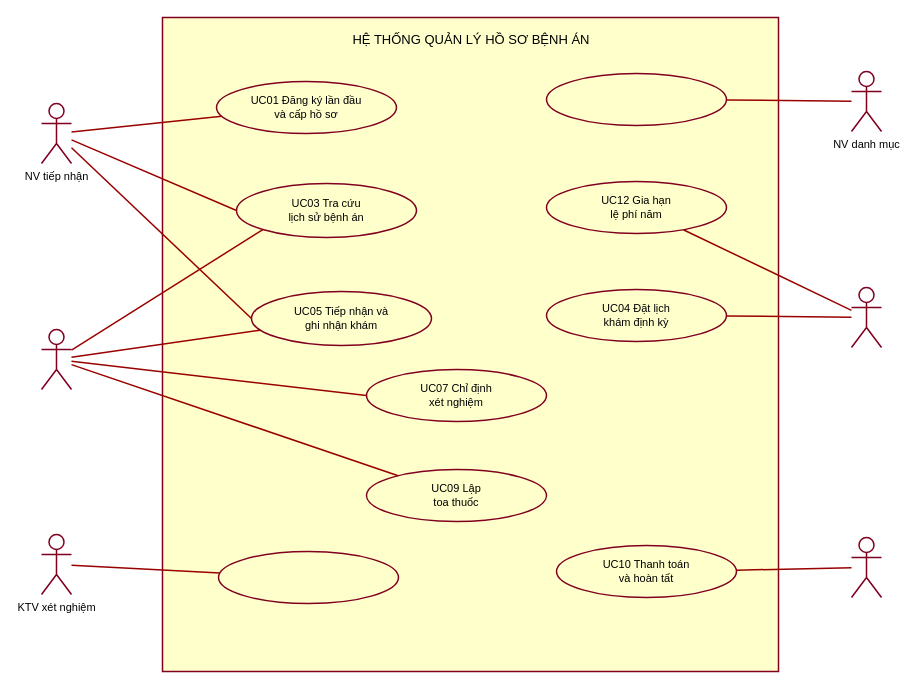
The diagram is 917 pixels wide and 690 high, and some of its shapes have lost their labels. Each missing label, with the centre of its shape:
"Bác sĩ" goes at point 56,359.
"NV CSKH" goes at point 866,317.
"Thu ngân" goes at point 866,567.
"UC08 Cập nhật kết quả xét nghiệm" goes at point 308,577.
"UC11 Quản lý danh mục" goes at point 636,99.
